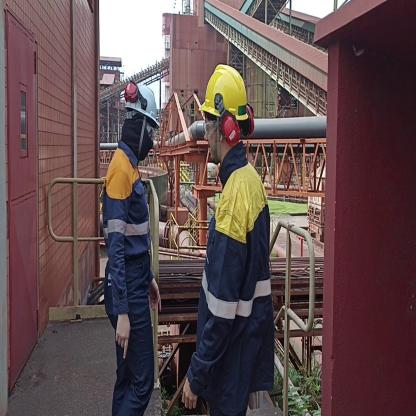Balaclava: (126, 111, 155, 163)
C_eletrica: (196, 180, 274, 402)
Capacete: (196, 63, 253, 118), (127, 83, 160, 117)
Operacional: (103, 150, 158, 309)
